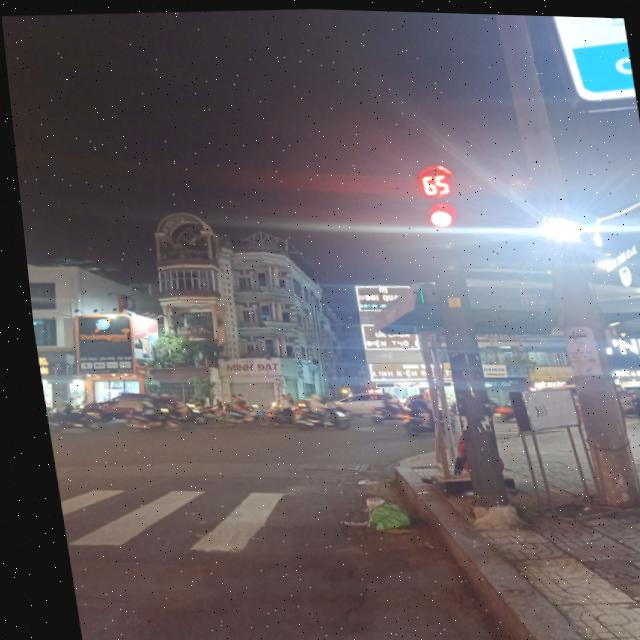Red: (417, 199, 465, 290)
